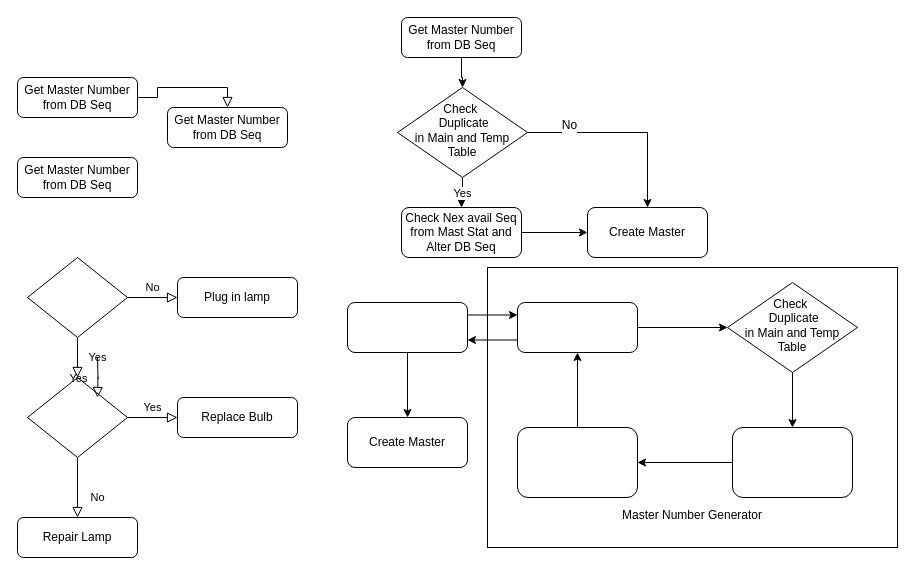
The diagram is 915 pixels wide and 575 high, and some of its shapes have lost their labels. The shapes that lost their labels are listed below. From the top down, each one's centre as x and y in pixels, then its label:
At (x=77, y=297): "Lamp plugged in?".
At (x=407, y=327): "Get Master Number".
At (x=577, y=327): "1. Ger Running Seq Number".
At (x=77, y=417): "Bulb burned out?".
At (x=577, y=462): "Reset Seq when seq falls in MAST STAT range".
At (x=792, y=462): "Get Available Master Number dynamically or from staging table".
